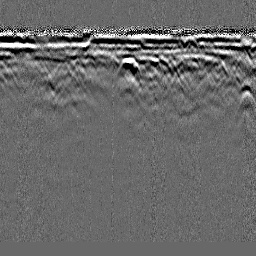cavity: (115, 53, 142, 78)
